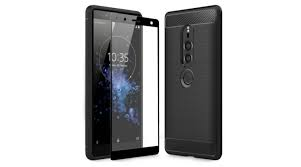sony: (162, 3, 223, 163), (84, 1, 145, 161)
